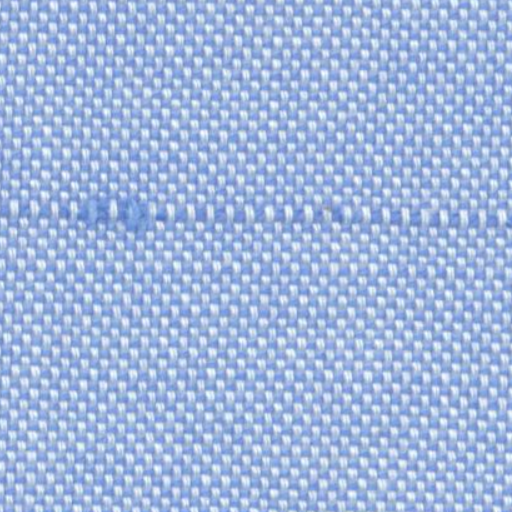DaiSha: (4, 175, 500, 246)
